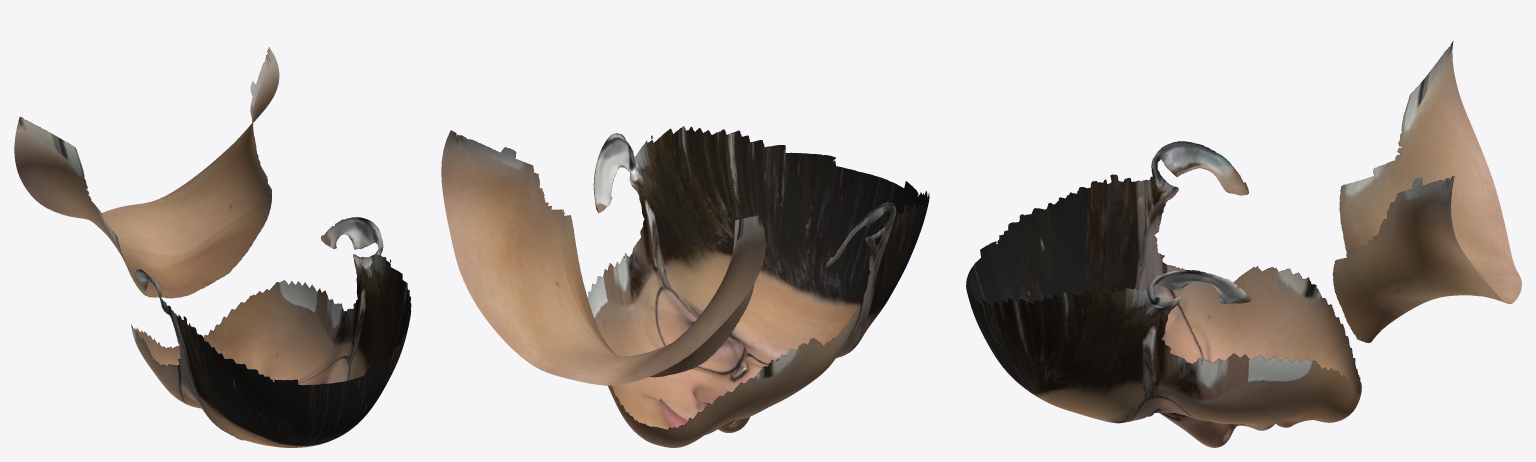
The model's file is SingleWTexture.fbx.
3 renders of one model, left to right at view 1: azimuth 30°, elevation 25°; view 2: azimuth 150°, elevation 25°; view 3: azimuth 270°, elevation 25°, orthographic. The views are drawn at different scales.
Visible parts, largest first — view 1: FBHead; view 2: FBHead; view 3: FBHead.
Boxes of the visible parts, bbox=[...] form: FBHead: bbox=[14, 47, 411, 447]; FBHead: bbox=[441, 126, 929, 447]; FBHead: bbox=[966, 41, 1521, 447].
Size of the model in its own units: 191 by 226 by 295.
Materials: 1 (1 with a texture image).
